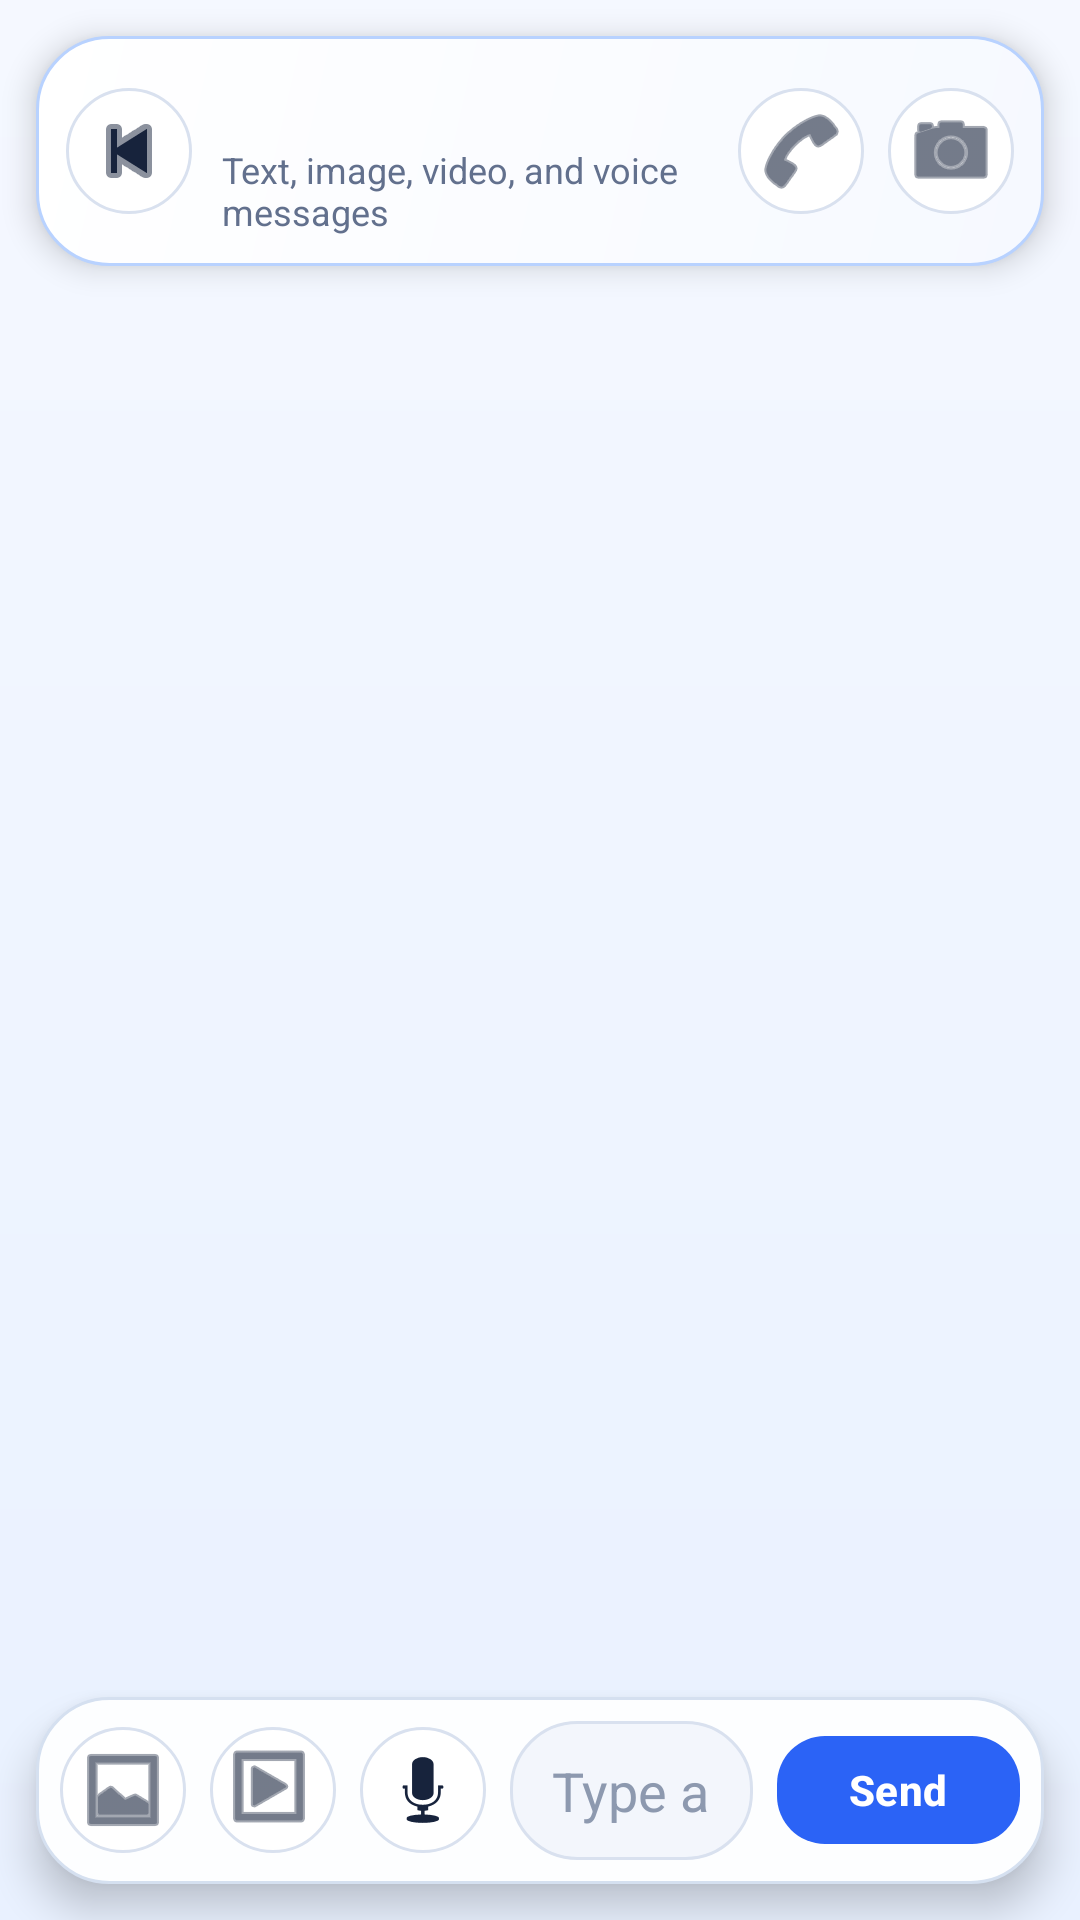

Icon bounding boxes for this 1080 × 1920 phone screenshot, format (x1, y1, x2, y2):
Back: (66, 88, 192, 214)
Record voice message: (360, 1727, 486, 1853)
Send image: (60, 1727, 186, 1853)
Send video: (210, 1727, 336, 1853)
Voice call: (738, 88, 864, 214)
